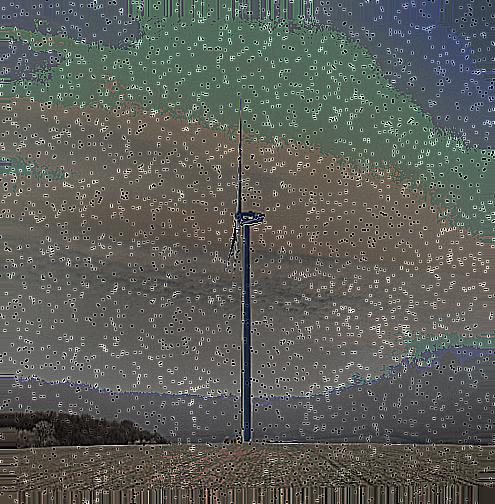wind turbine: (220, 95, 267, 443)
